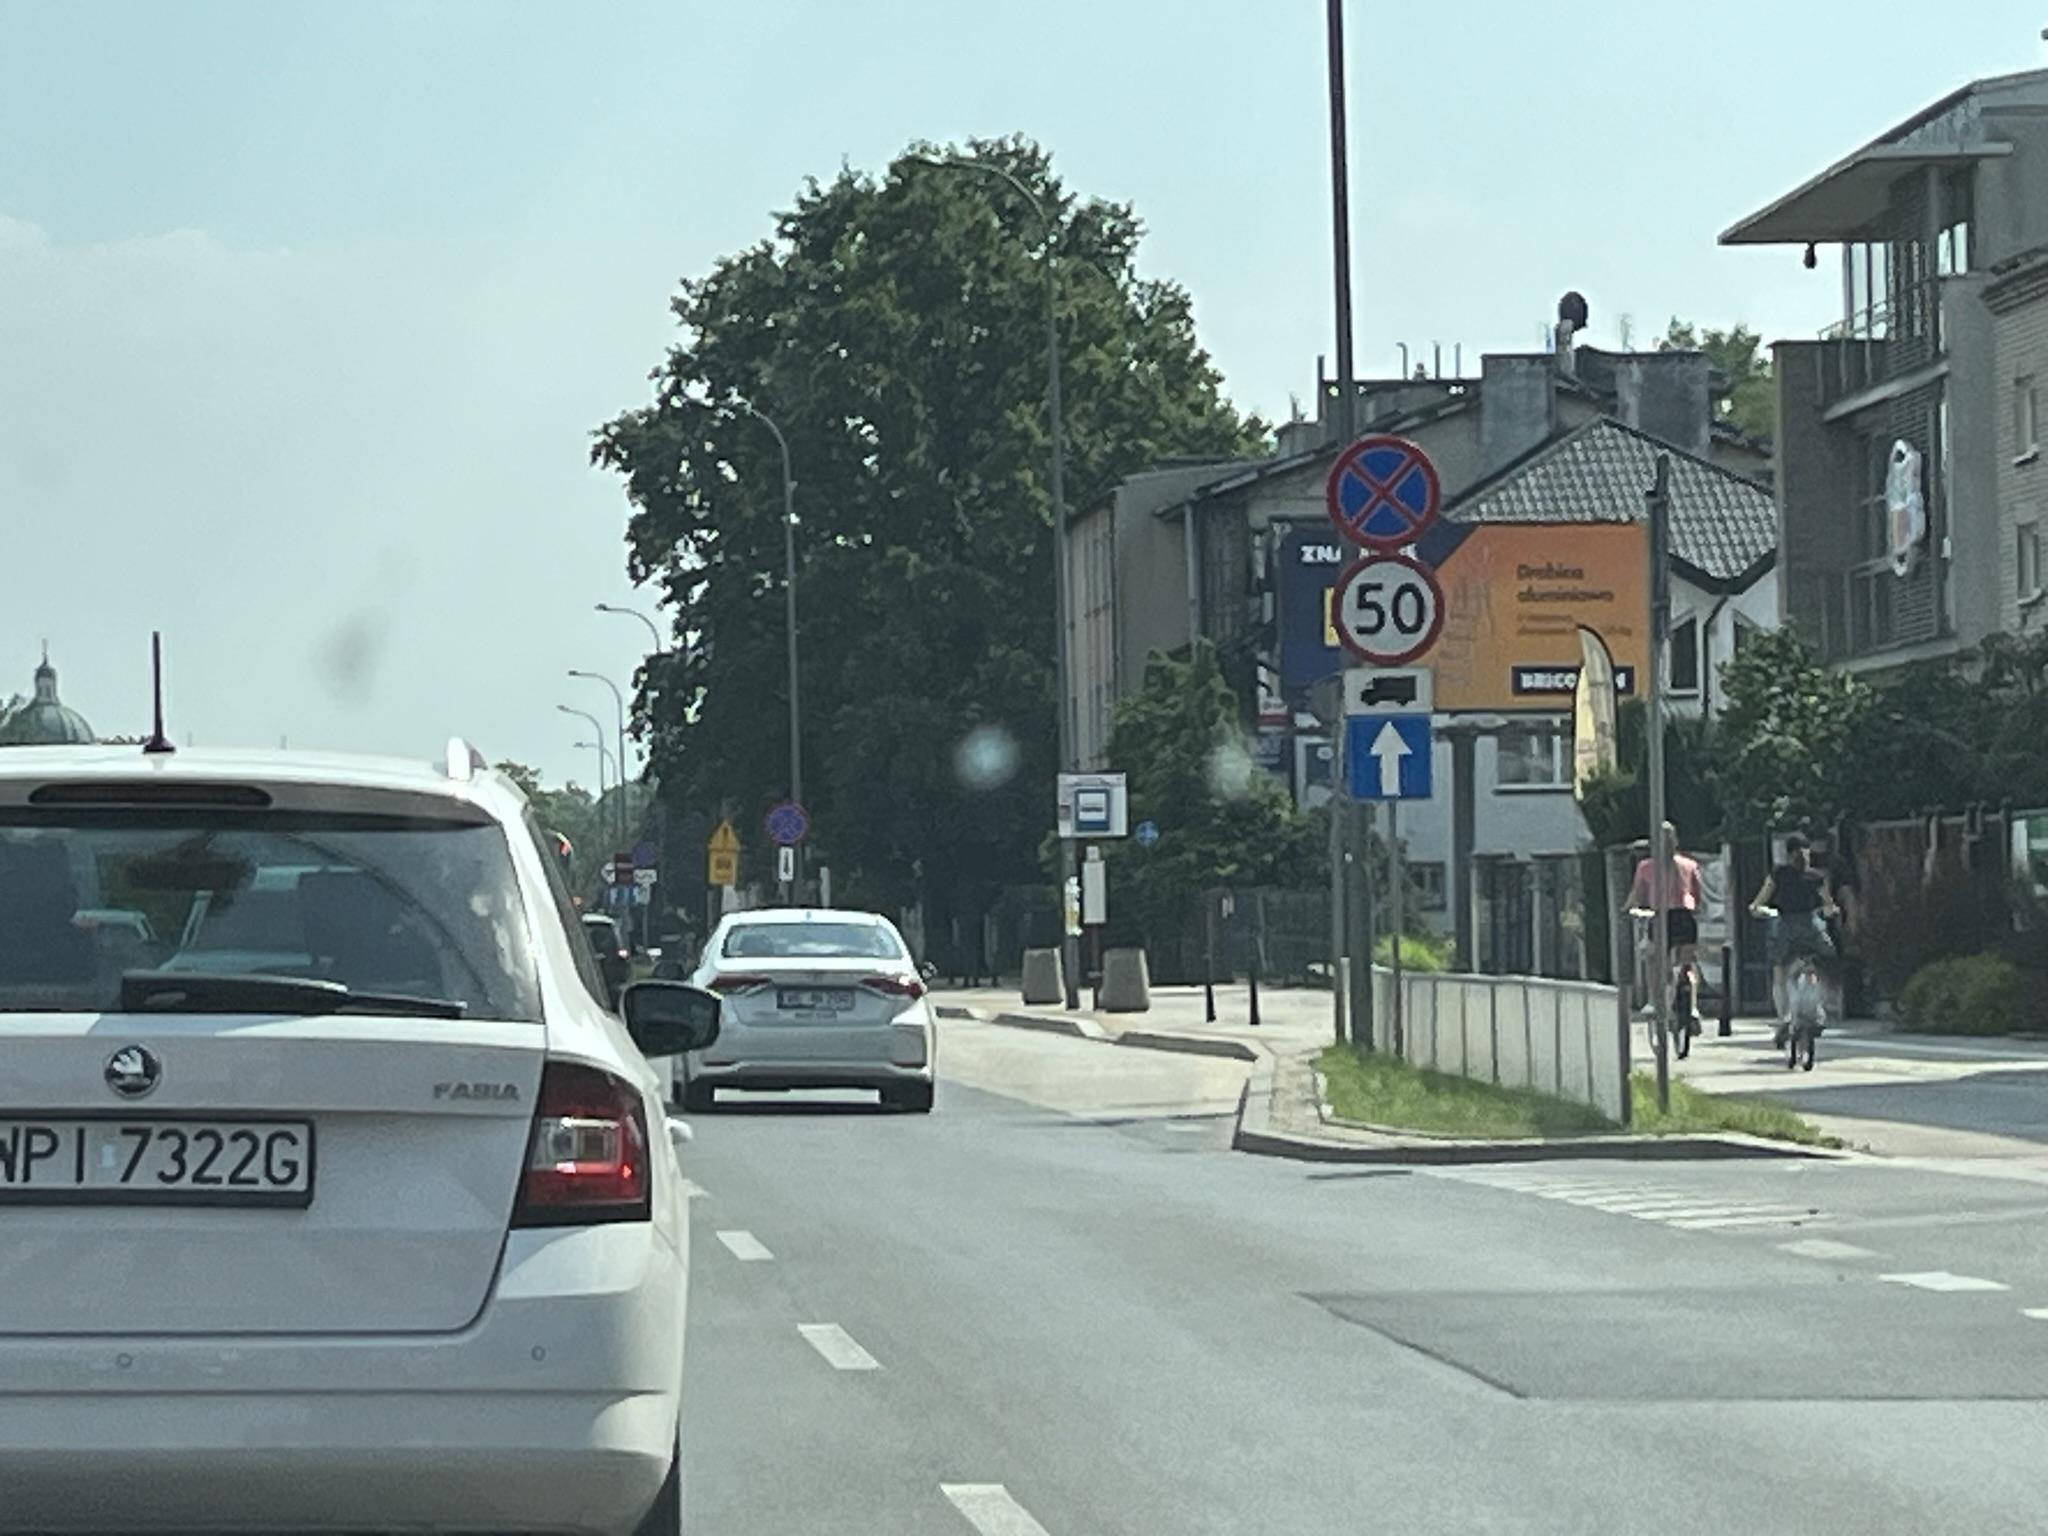information: (1350, 718, 1430, 799), (1076, 787, 1109, 829)
other: (1343, 671, 1432, 716), (710, 852, 735, 884), (779, 847, 793, 881)
prohibitory: (1324, 436, 1442, 552), (1329, 553, 1447, 668), (764, 802, 810, 847)
warning: (706, 821, 742, 852)
